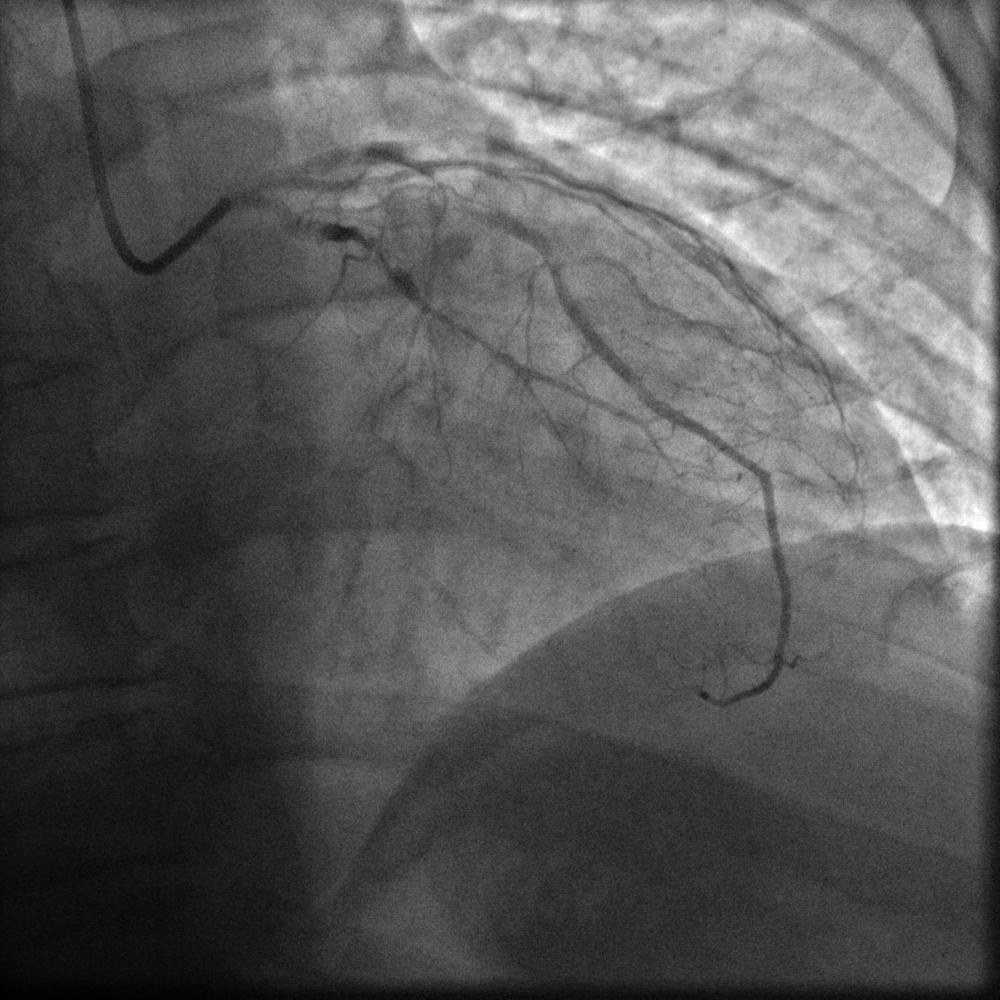Stenosis: (350, 222, 411, 280)
